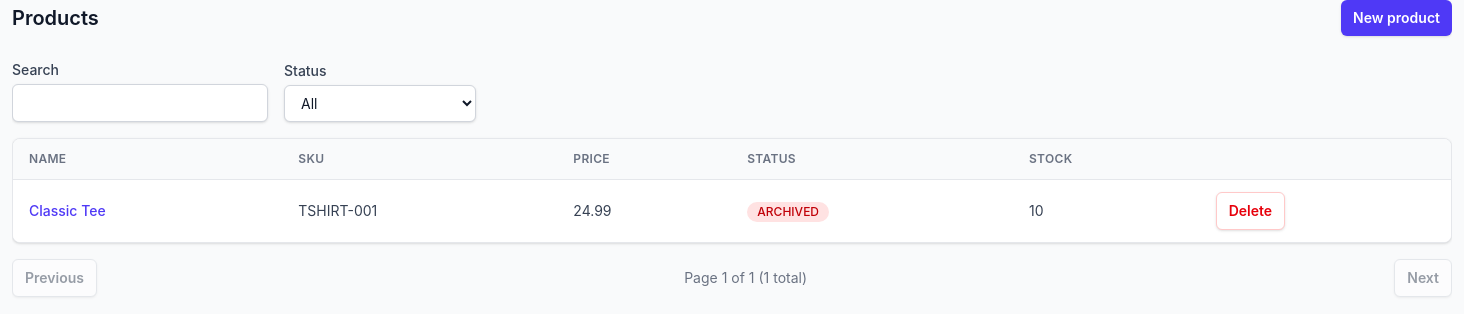
Test: ProductsListPage › asks for confirmation and permanently deletes an archived product
Expected: the link "Classic Tee" is shown, [29,202,106,219]
Click the button "Delete": [1250, 211] box [1216,192,1285,230]
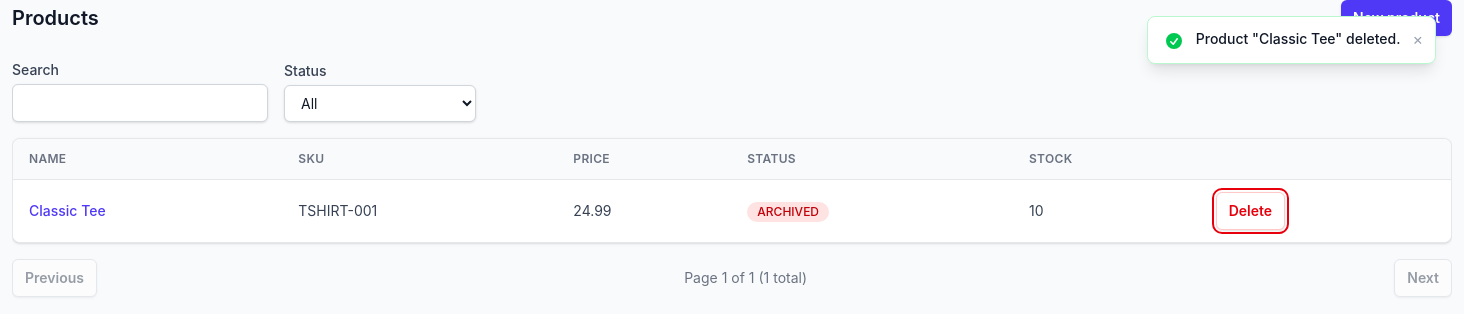
Expected: the text "Product \"Classic Tee\" deleted." is shown, [1196,29,1400,49]
